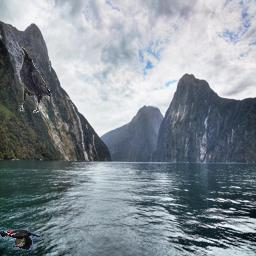Crow: (19, 47, 50, 113)
Woodpecker: (0, 229, 42, 250)
